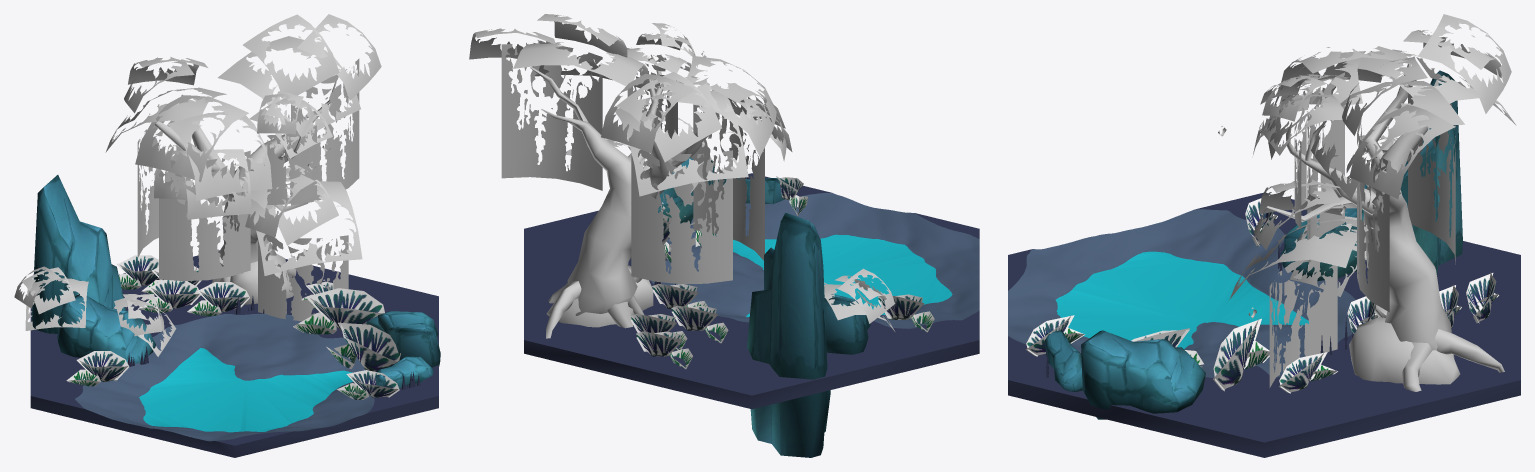
File: aqua_land01-10.fbx
The picture shows the model from 3 angles, left to right: view 1: azimuth 30°, elevation 25°; view 2: azimuth 150°, elevation 25°; view 3: azimuth 270°, elevation 25°; orthographic projection. The views are drawn at different scales.
Visible parts, largest first — view 1: Tree_Blue01, Cylinder_1, Cube_2, Cube_1, grass_6_2, Cube_1_1, grass_6_3, leaves_Blue, Tree_Blue01_1, grass_6_4, grass_6_5, grass_6_6 (+3 smaller); view 2: Tree_Blue01, Cylinder_1, Cube_2, leaves_Blue, Cube_1, grass_6_8, grass_6_6, grass_6_4, grass_6_5, grass_6_7, Cube_1_1, grass_6_1 (+1 smaller); view 3: Cylinder_1, Tree_Blue01, Cube_1_1, Cube_2, grass_6_2, Cube_1_2, Cube_1, grass_6, grass_6_8, grass_6_1, Tree_Blue01_1, grass_6_5 (+3 smaller).
Boxes of the visible parts, bbox=[...] form: Tree_Blue01: bbox=[105, 14, 381, 321]; Cylinder_1: bbox=[30, 250, 438, 457]; Cube_2: bbox=[31, 175, 125, 333]; Cube_1: bbox=[57, 294, 155, 363]; grass_6_2: bbox=[293, 288, 384, 334]; Cube_1_1: bbox=[366, 311, 440, 367]; grass_6_3: bbox=[326, 322, 400, 371]; leaves_Blue: bbox=[14, 266, 88, 330]; Tree_Blue01_1: bbox=[113, 294, 176, 356]; grass_6_4: bbox=[66, 351, 129, 386]; grass_6_5: bbox=[187, 282, 249, 316]; grass_6_6: bbox=[138, 280, 200, 312]; Tree_Blue01: bbox=[469, 14, 792, 338]; Cylinder_1: bbox=[524, 173, 979, 409]; Cube_2: bbox=[747, 212, 830, 457]; leaves_Blue: bbox=[824, 268, 894, 331]; Cube_1: bbox=[824, 294, 870, 354]; grass_6_8: bbox=[636, 331, 692, 369]; grass_6_6: bbox=[671, 305, 728, 343]; grass_6_4: bbox=[878, 294, 934, 332]; grass_6_5: bbox=[652, 284, 707, 308]; grass_6_7: bbox=[630, 314, 687, 350]; Cube_1_1: bbox=[658, 157, 714, 223]; grass_6_1: bbox=[776, 176, 807, 215]; Cylinder_1: bbox=[1008, 192, 1520, 457]; Tree_Blue01: bbox=[1218, 14, 1516, 391]; Cube_1_1: bbox=[1081, 330, 1205, 419]; Cube_2: bbox=[1365, 70, 1462, 274]; grass_6_2: bbox=[1213, 318, 1269, 391]; Cube_1_2: bbox=[1045, 330, 1082, 391]; Cube_1: bbox=[1280, 184, 1367, 281]; grass_6: bbox=[1279, 352, 1337, 393]; grass_6_8: bbox=[1466, 272, 1498, 323]; grass_6_1: bbox=[1025, 315, 1084, 356]; Tree_Blue01_1: bbox=[1290, 212, 1366, 296]; grass_6_5: bbox=[1347, 296, 1378, 333].
Size of the model in its own units: 4558 by 3477 by 3947.
